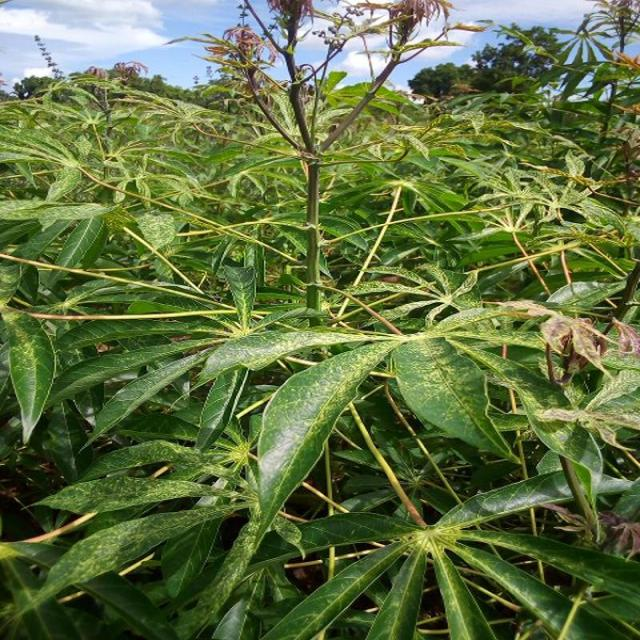Mosaico: (395, 516, 609, 637), (111, 439, 258, 546), (522, 305, 640, 373)
